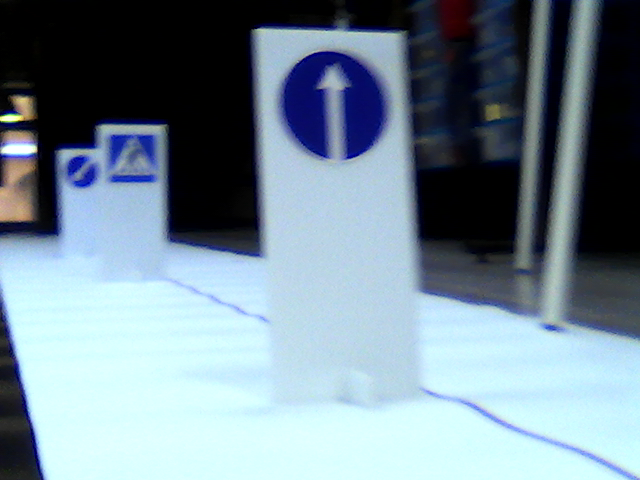forw: (280, 46, 397, 163)
pesh: (106, 131, 157, 177)
prep: (68, 154, 99, 188)
